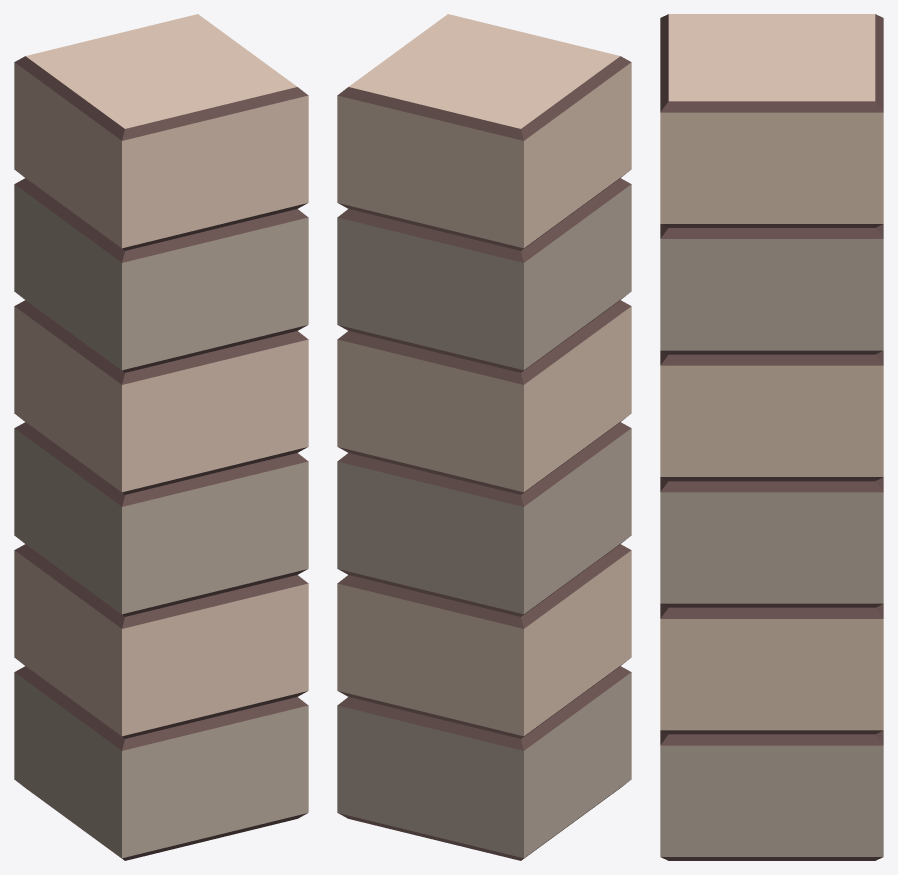
File: greek_wall_column_1.fbx
The picture shows the model from 3 angles, left to right: view 1: azimuth 30°, elevation 25°; view 2: azimuth 150°, elevation 25°; view 3: azimuth 270°, elevation 25°; orthographic projection. The views are drawn at different scales.
Parts seen in each view (by area): view 1: Cube.013; view 2: Cube.013; view 3: Cube.013.
Part boxes in pixels (x1,y1,x2,y2): Cube.013: (14, 14, 308, 860); Cube.013: (337, 14, 631, 860); Cube.013: (660, 14, 883, 860).
Bounding box in the file's own units: 80 × 300 × 80.
